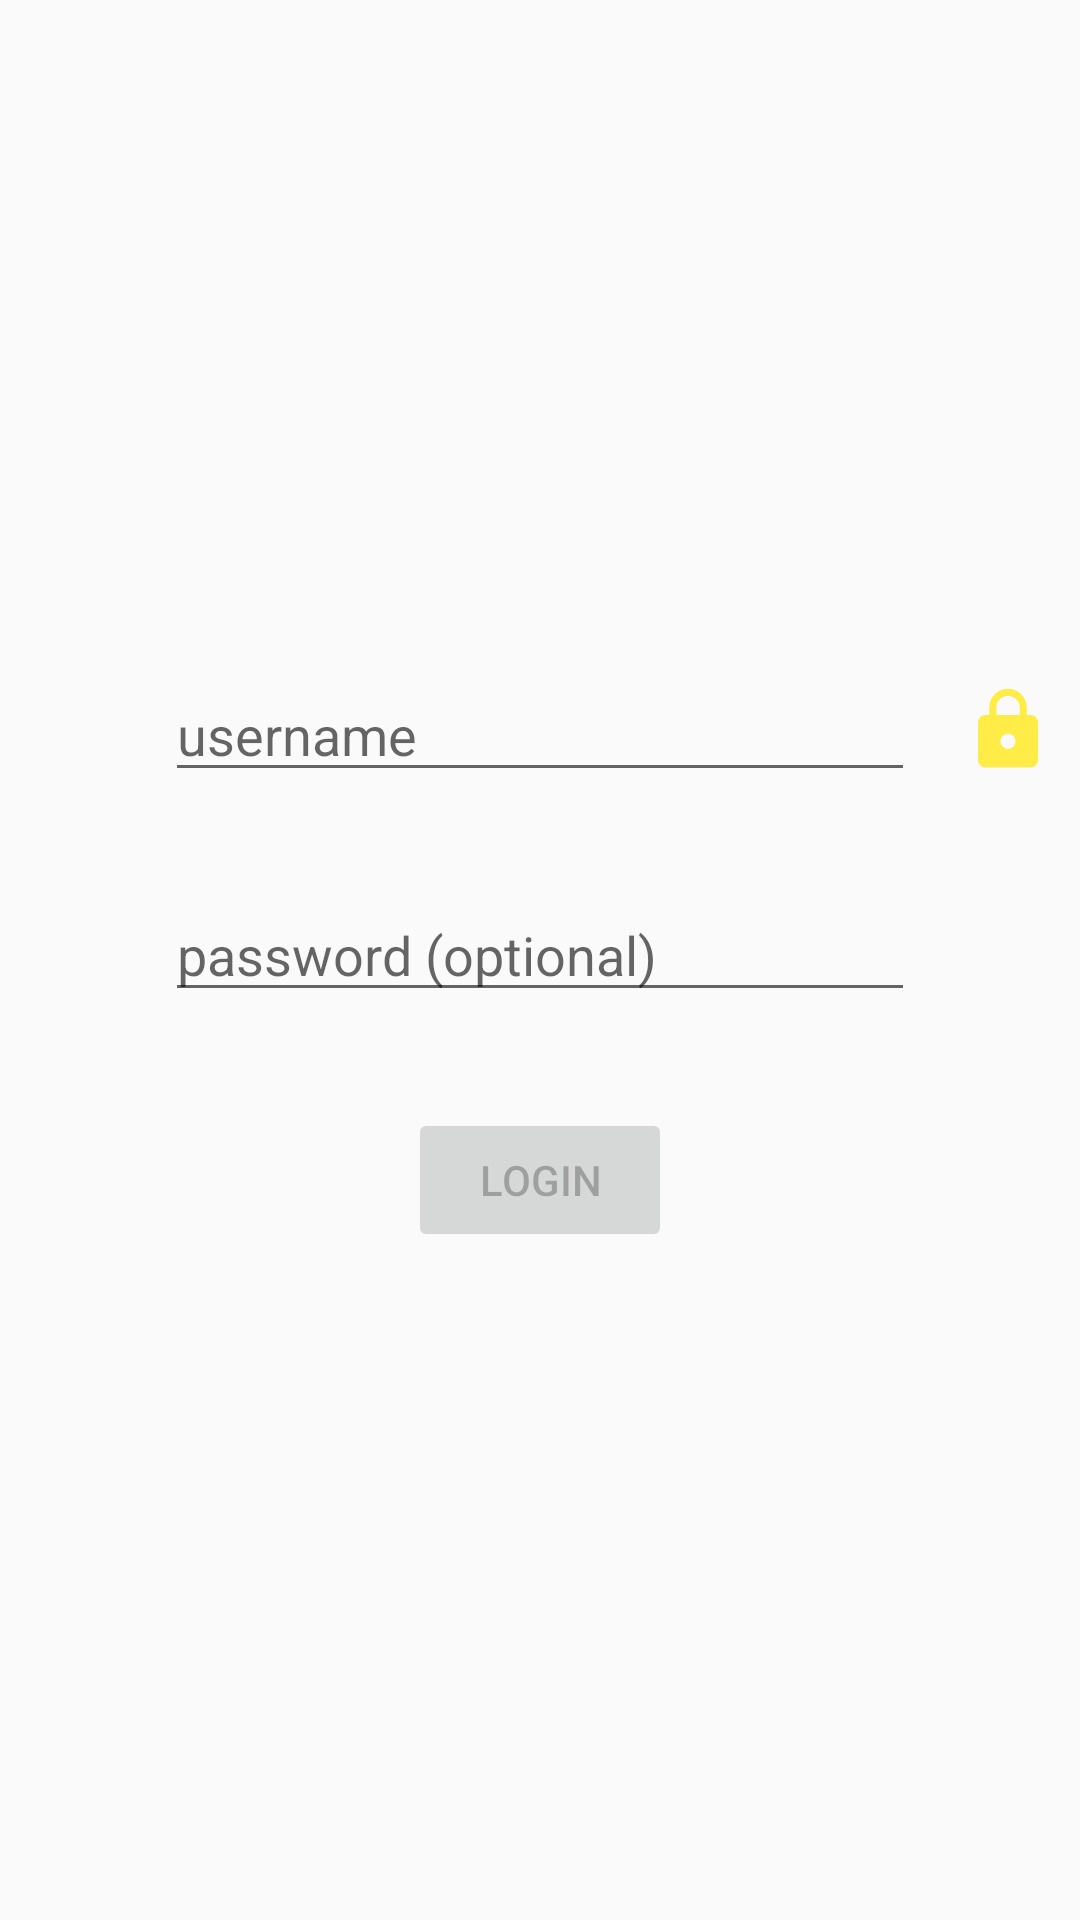

Icon bounding boxes for this 1080w x 1920h phone screenshot, format (x1, y1, x2, y2):
lock: (978, 688, 1038, 768)
